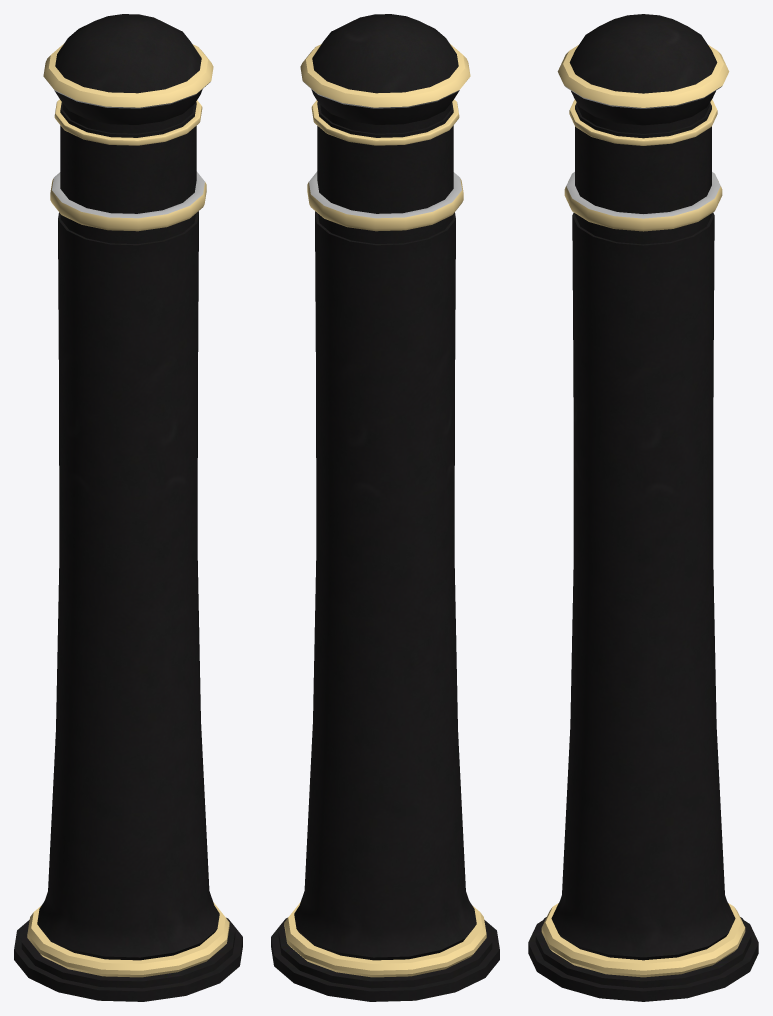
Rendered from street_bollard.glb.
3 renders of one model, left to right at view 1: azimuth 30°, elevation 25°; view 2: azimuth 150°, elevation 25°; view 3: azimuth 270°, elevation 25°, orthographic.
Parts seen in each view (by area): view 1: g; view 2: g; view 3: g.
Boxes of the visible parts, x1,y1,x2,y2 form: g: (14,14,242,1001); g: (271,14,499,1001); g: (528,14,758,1001).
Bounding box in the file's own units: 0.4497 × 2 × 0.4497.
1 material, 1 textured.
